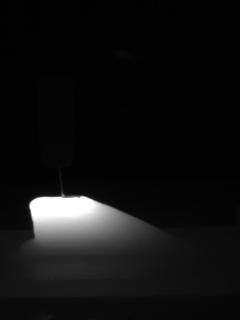tip_wire_left: (42, 162, 64, 197)
tip_wire_right: (62, 161, 73, 197)
